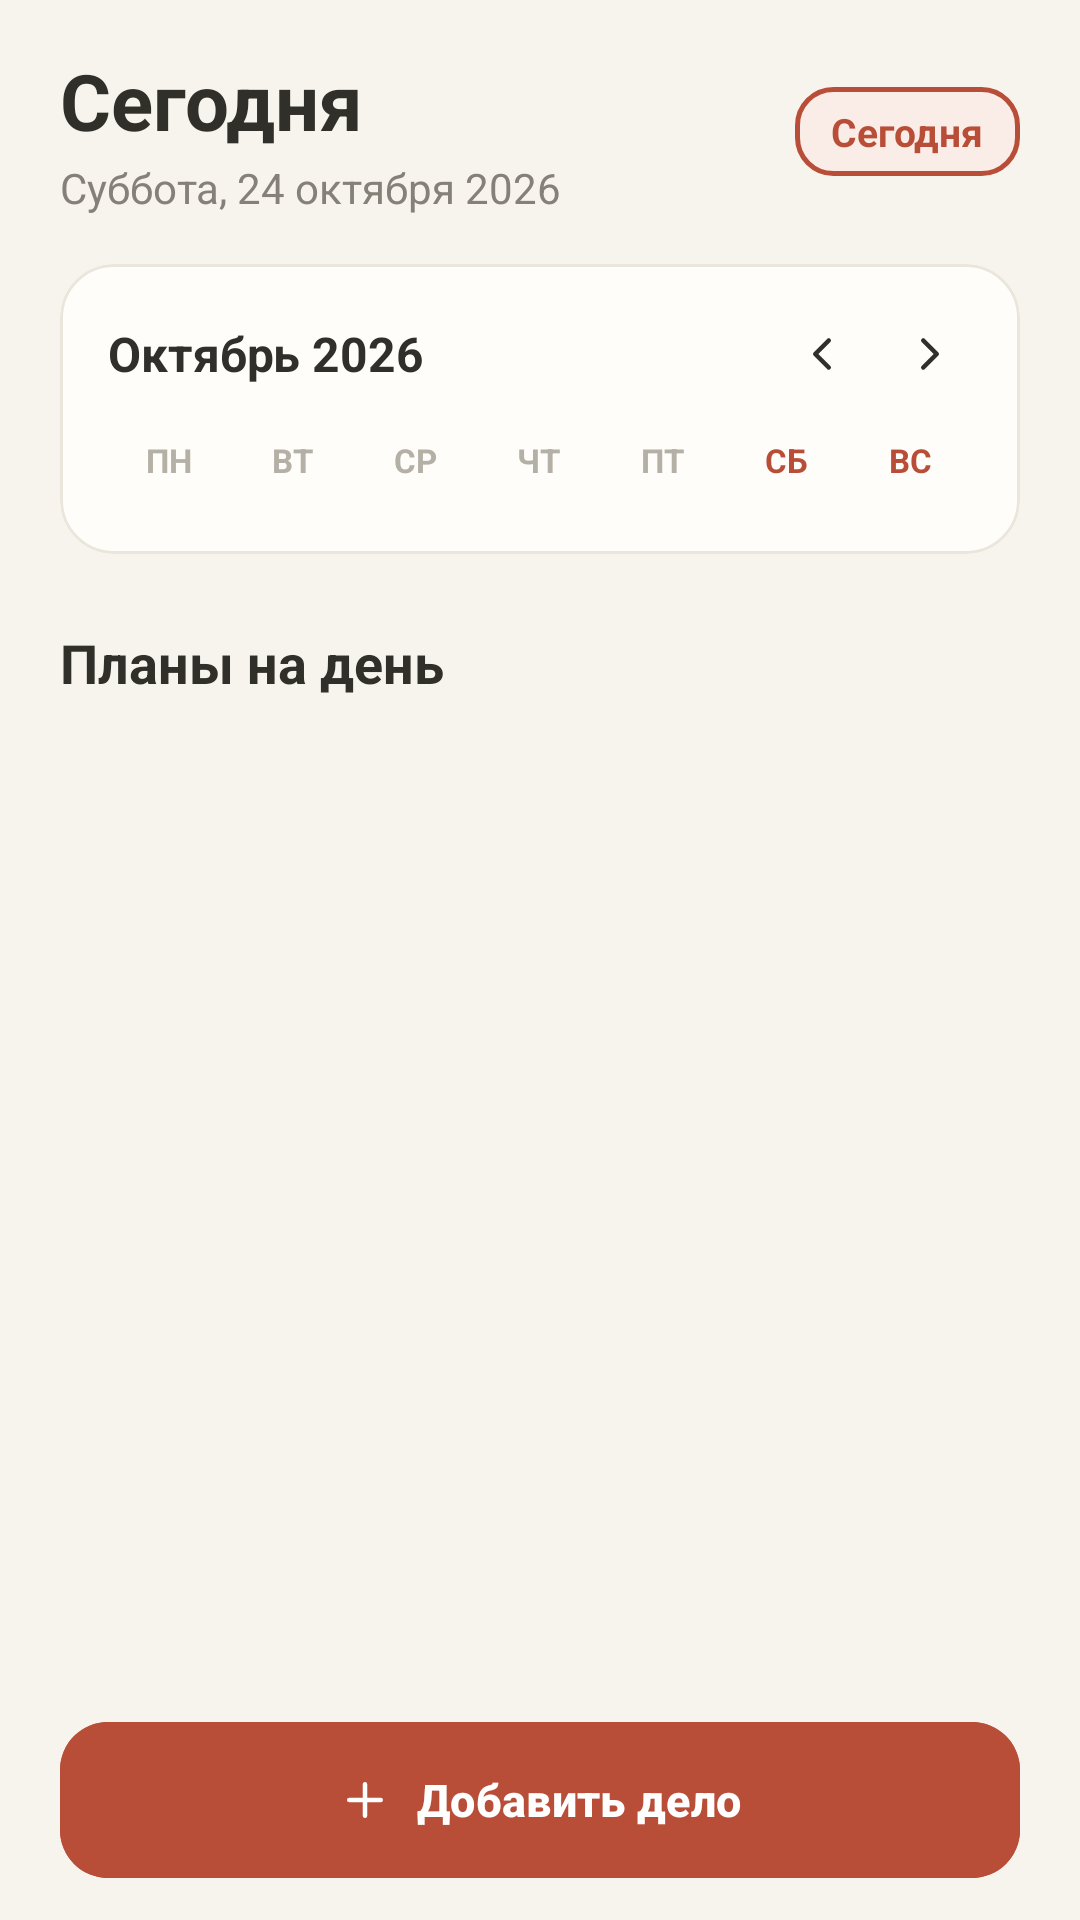

Icons on this 1080px×1920px Android screen, each with the point to tap as point (x, y):
chevron left: point (822, 354)
chevron right: point (930, 354)
